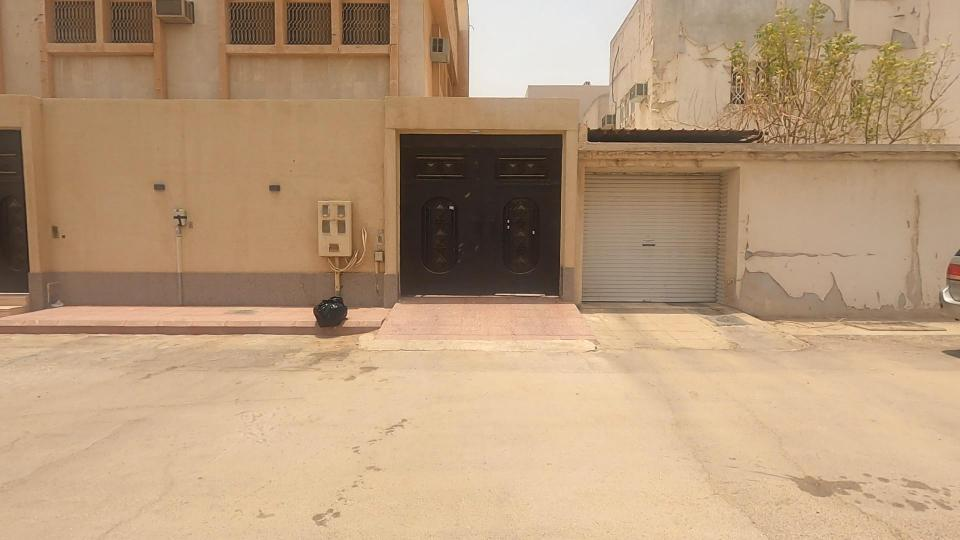GARBAGE: (266, 251, 400, 372)
